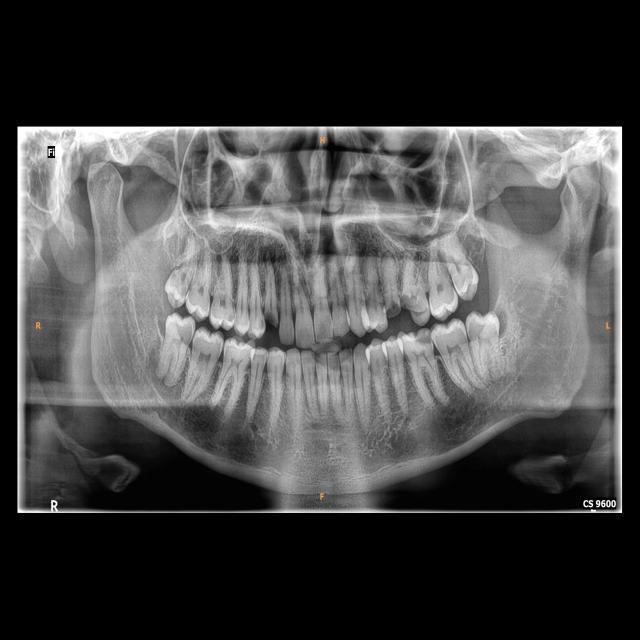dentin-curugu: (402, 293, 428, 328), (385, 296, 403, 324), (264, 311, 282, 329)
